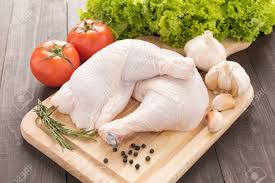Chicken: (114, 38, 205, 142)
Lettuce: (94, 2, 270, 27)
Onion: (193, 32, 225, 64)
Tomato: (32, 40, 83, 80)
